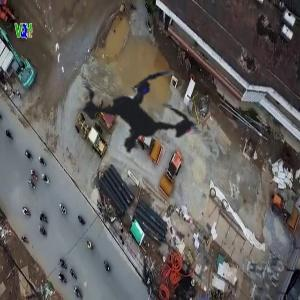drone: (26, 4, 250, 228)
